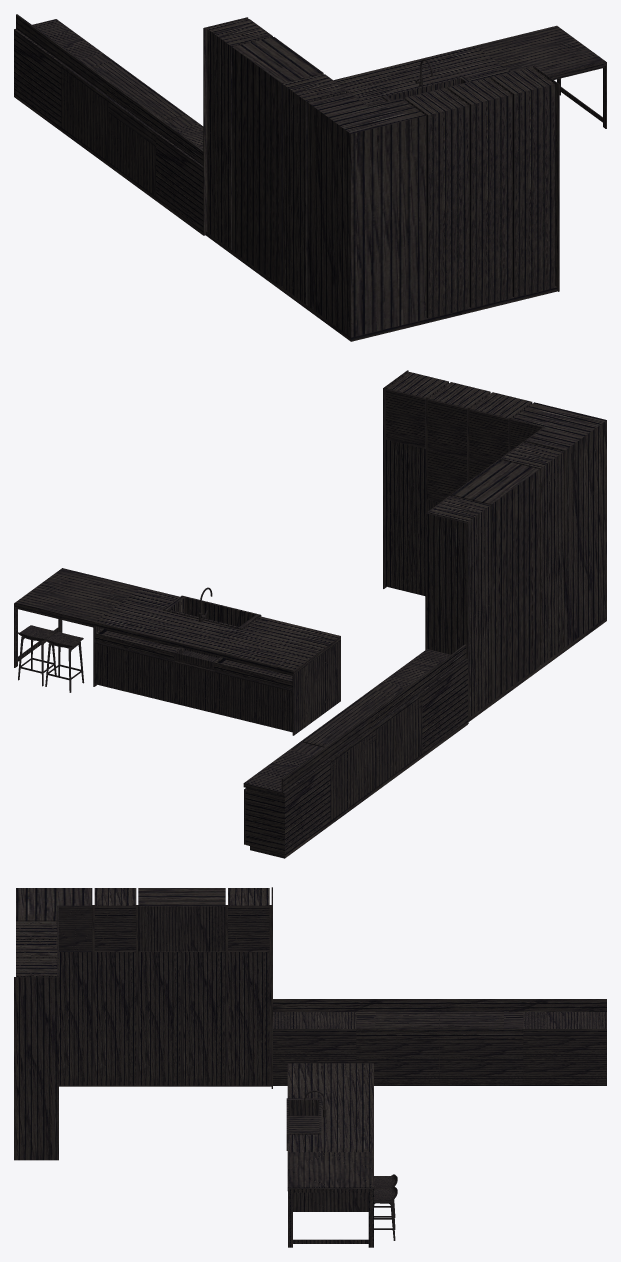
The model's file is kitchen.glb.
3 renders of one model, top to bottom at view 1: azimuth 30°, elevation 25°; view 2: azimuth 150°, elevation 25°; view 3: azimuth 270°, elevation 25°, orthographic. The views are drawn at different scales.
Parts seen in each view (by area): view 1: Obj_000067, Obj_000070, Obj_000074, Obj_000077, Obj_000076, Obj_000071, Obj_000068, Obj_000099, Obj_000005, Obj_000050, Obj_000047, Obj_000048 (+13 smaller); view 2: Obj_000070, Obj_000067, Obj_000099, Obj_000066, Obj_000092, Obj_000071, Obj_000068, Obj_000048, Obj_000005, Obj_000098, Obj_000049, Obj_000050 (+26 smaller); view 3: Obj_000094, Obj_000099, Obj_000118, Obj_000119, Obj_000082, Obj_000080, Obj_000116, Obj_000081, Obj_000005, Obj_000061, Obj_000062, Obj_000007 (+29 smaller).
Boxes of the visible parts, x1,y1,x2,y2 form: Obj_000067: (307,92,426,337); Obj_000070: (232,37,321,286); Obj_000074: (405,88,469,318); Obj_000077: (491,67,555,297); Obj_000076: (448,77,512,307); Obj_000071: (282,74,345,304); Obj_000068: (207,19,270,249); Obj_000099: (333,45,509,105); Obj_000005: (475,25,605,78); Obj_000050: (61,68,108,161); Obj_000047: (156,138,203,230); Obj_000048: (14,34,61,126); Obj_000070: (453,459,539,700); Obj_000067: (512,402,606,647); Obj_000099: (94,587,340,674); Obj_000066: (425,513,468,723); Obj_000092: (386,439,425,595); Obj_000071: (503,442,563,664); Obj_000068: (429,496,490,717); Obj_000048: (245,764,330,854); Obj_000005: (15,568,141,625); Obj_000098: (292,640,340,735); Obj_000049: (376,698,422,787); Obj_000050: (330,731,376,820); Obj_000094: (14,977,58,1160); Obj_000099: (287,1063,373,1152); Obj_000118: (182,951,225,1085); Obj_000119: (138,951,181,1085); Obj_000082: (94,951,136,1085); Obj_000080: (228,951,269,1085); Obj_000116: (59,951,92,1085); Obj_000081: (138,905,225,951); Obj_000005: (287,1152,373,1190); Obj_000061: (356,1012,523,1041); Obj_000062: (273,999,446,1011); Obj_000007: (375,1011,503,1027).
Bounding box in the file's own units: 6029 × 2905 × 8522.
123 materials, 123 textured.
